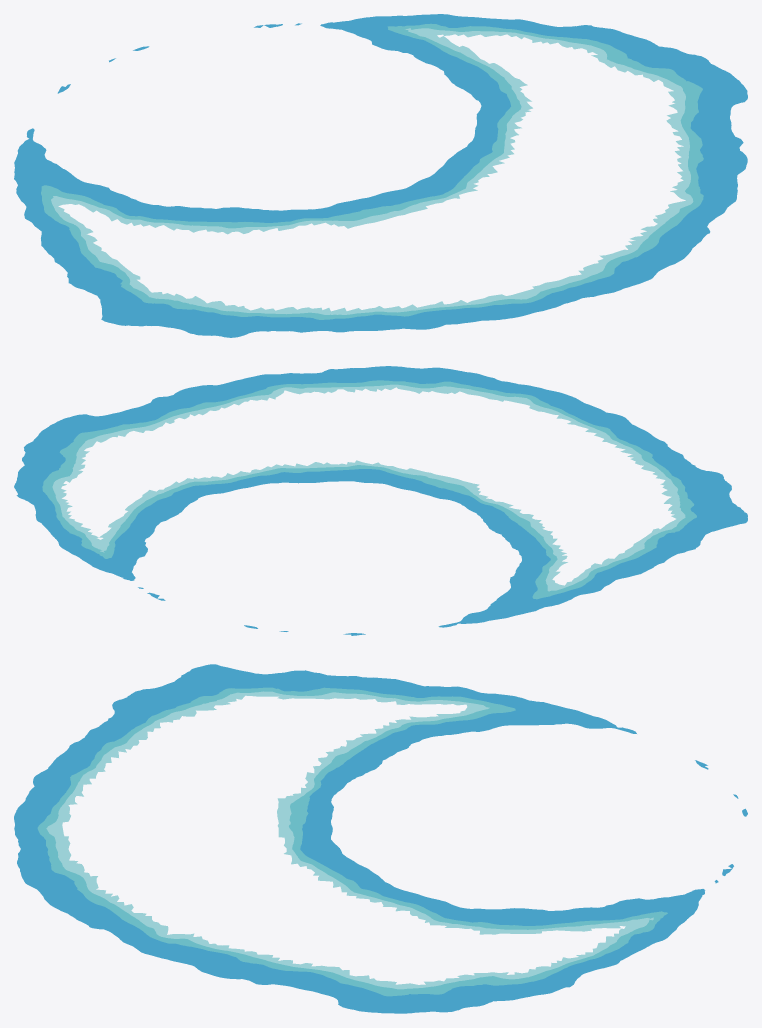
File: Isl-crescent4-Water.fbx
3 renders of one model, top to bottom at view 1: azimuth 30°, elevation 25°; view 2: azimuth 150°, elevation 25°; view 3: azimuth 270°, elevation 25°, orthographic. The views are drawn at different scales.
Parts seen in each view (by area): view 1: Isl-crescent4-Water; view 2: Isl-crescent4-Water; view 3: Isl-crescent4-Water.
Boxes of the visible parts, box(x1,y1,x2,y2) form: Isl-crescent4-Water: box(14, 14, 747, 337); Isl-crescent4-Water: box(14, 366, 747, 635); Isl-crescent4-Water: box(14, 664, 747, 1013).
Bounding box in the file's own units: 119 × 0 × 106.
